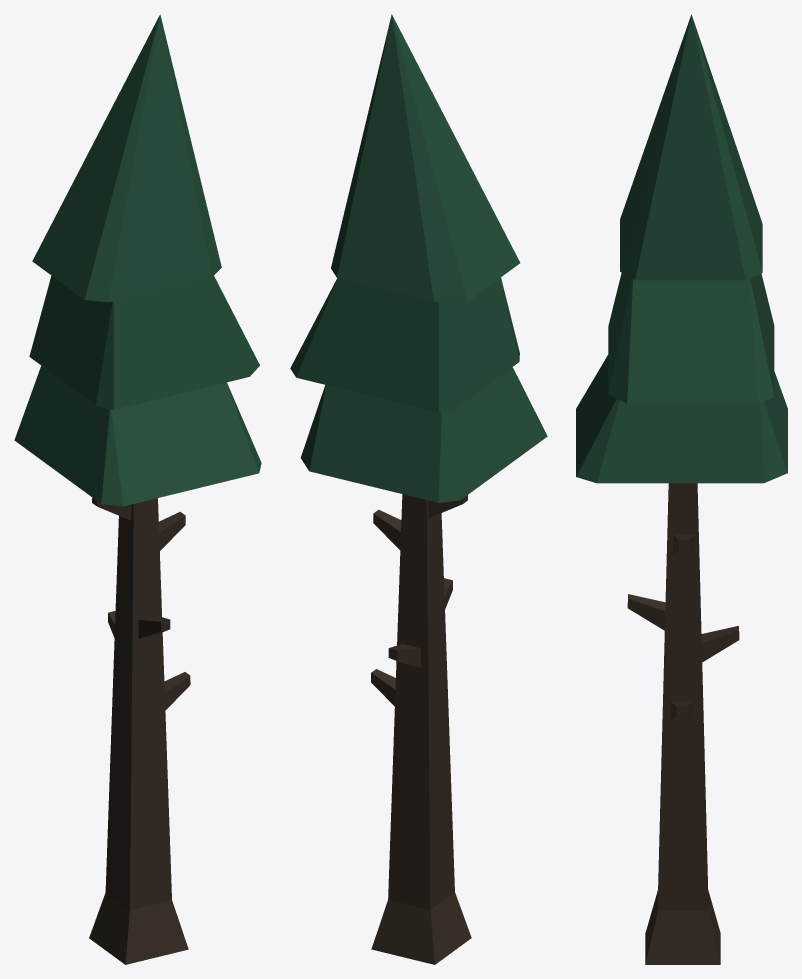
The model's file is rn_pine_b.glb.
3 renders of one model, left to right at view 1: azimuth 30°, elevation 25°; view 2: azimuth 150°, elevation 25°; view 3: azimuth 270°, elevation 25°, orthographic. The views are drawn at different scales.
Parts seen in each view (by area): view 1: rn_pine_b; view 2: rn_pine_b; view 3: rn_pine_b.
Boxes of the visible parts, x1,y1,x2,y2 form: rn_pine_b: (14, 14, 261, 964); rn_pine_b: (290, 14, 547, 964); rn_pine_b: (576, 14, 787, 964).
Bounding box in the file's own units: 1.7 × 8.5 × 1.72.
